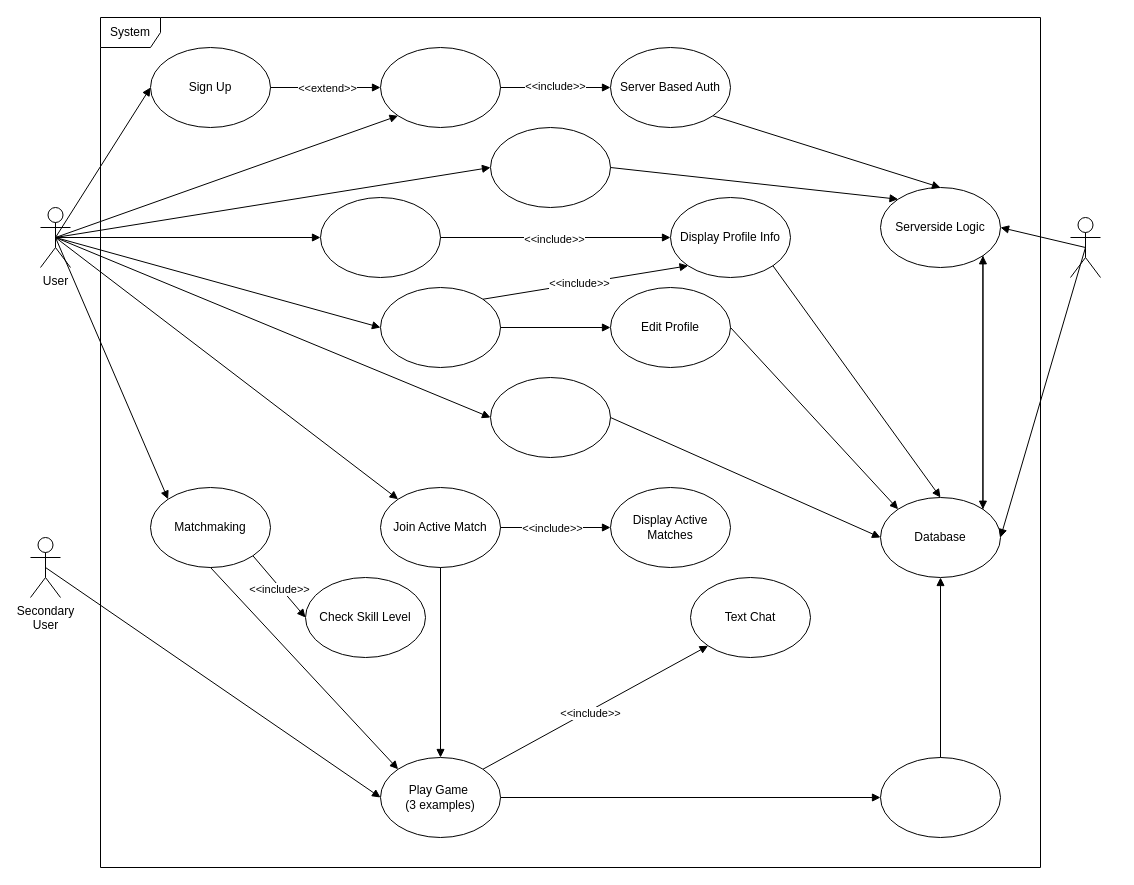
Image size: 1134x885. Some labels were removed from this diagram. Each missing label, with the centre of its shape:
"Login" goes at point 440,87.
"Manage Account" goes at point 550,167.
"Save Game Results" goes at point 940,797.
"Server Role" goes at point 1085,247.
"View Leaderboards" goes at point 550,417.
"View Other Profiles" goes at point 380,237.
"View Own Profile" goes at point 440,327.
